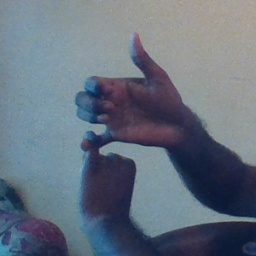S: (68, 29, 176, 205)
